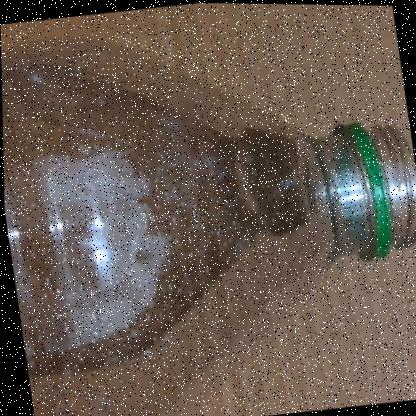open bottle: (81, 1, 416, 414)
